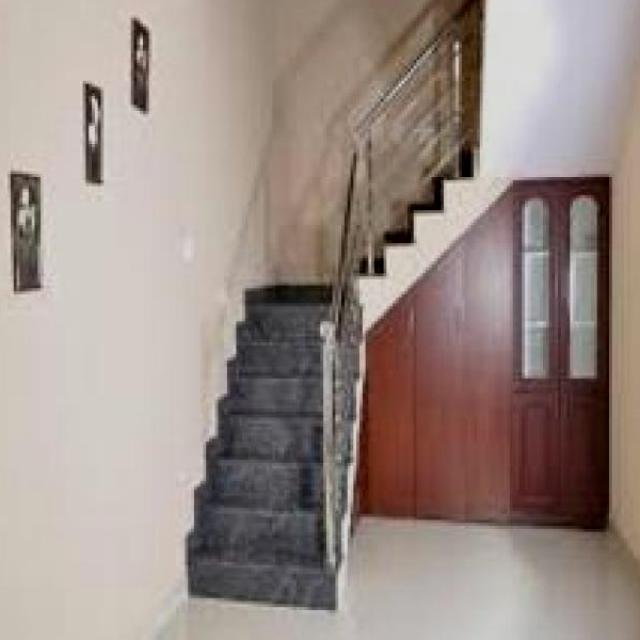stair: (182, 379, 338, 583)
